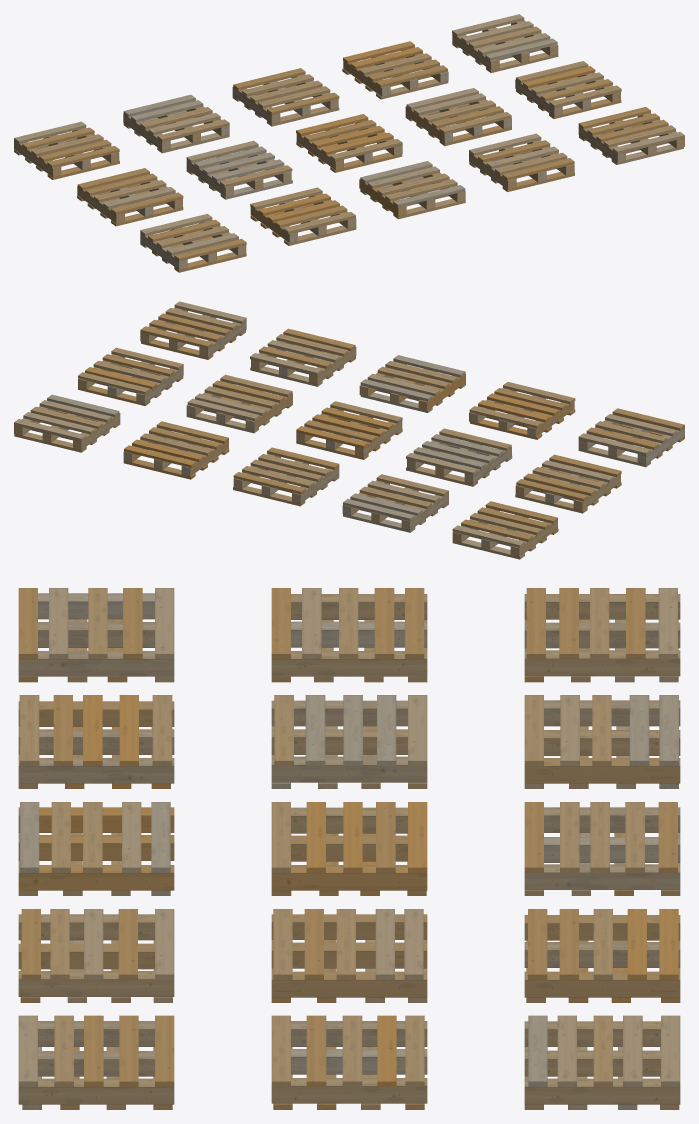
Rendered from Pallets.fbx.
The picture shows the model from 3 angles, top to bottom: view 1: azimuth 30°, elevation 25°; view 2: azimuth 150°, elevation 25°; view 3: azimuth 270°, elevation 25°; orthographic projection. The views are drawn at different scales.
Visible parts, largest first — view 1: Pallet_Asm_1, Pallet_Asm_7, Pallet_Asm_15, Pallet_Asm_8, Pallet_Asm_12, Pallet_Asm_6, Pallet_Asm_5, Pallet_Asm_14, Pallet_Asm_3, Pallet_Asm_2, Pallet_Asm_11, Pallet_Asm_13 (+3 smaller); view 2: Pallet_Asm_6, Pallet_Asm_1, Pallet_Asm_9, Pallet_Asm_13, Pallet_Asm_12, Pallet_Asm_8, Pallet_Asm_3, Pallet_Asm_5, Pallet_Asm_2, Pallet_Asm_10, Pallet_Asm_11, Pallet_Asm_7 (+3 smaller); view 3: Pallet_Asm_1, Pallet_Asm_15, Pallet_Asm_5, Pallet_Asm_11, Pallet_Asm_6, Pallet_Asm_8, Pallet_Asm_10, Pallet_Asm_9, Pallet_Asm_7, Pallet_Asm_12, Pallet_Asm_14, Pallet_Asm_4 (+3 smaller).
Boxes of the visible parts, x1,y1,x2,y2 form: Pallet_Asm_1: (140, 214, 246, 272); Pallet_Asm_7: (186, 140, 292, 199); Pallet_Asm_15: (452, 14, 558, 72); Pallet_Asm_8: (296, 114, 402, 172); Pallet_Asm_12: (123, 94, 229, 153); Pallet_Asm_6: (77, 168, 183, 226); Pallet_Asm_5: (578, 107, 684, 164); Pallet_Asm_14: (342, 41, 448, 99); Pallet_Asm_3: (359, 161, 465, 219); Pallet_Asm_2: (250, 187, 356, 245); Pallet_Asm_11: (14, 121, 119, 179); Pallet_Asm_13: (232, 68, 339, 126); Pallet_Asm_6: (515, 454, 621, 513); Pallet_Asm_1: (578, 408, 684, 467); Pallet_Asm_9: (186, 374, 292, 433); Pallet_Asm_13: (233, 447, 339, 506); Pallet_Asm_12: (342, 474, 448, 532); Pallet_Asm_8: (296, 401, 402, 459); Pallet_Asm_3: (359, 355, 465, 412); Pallet_Asm_5: (140, 301, 246, 359); Pallet_Asm_2: (469, 382, 575, 439); Pallet_Asm_10: (78, 347, 183, 405); Pallet_Asm_11: (452, 501, 558, 559); Pallet_Asm_7: (406, 428, 512, 486); Pallet_Asm_1: (18, 588, 174, 682); Pallet_Asm_15: (524, 1015, 680, 1109); Pallet_Asm_5: (18, 1015, 174, 1109); Pallet_Asm_11: (524, 588, 680, 682); Pallet_Asm_6: (271, 588, 427, 682); Pallet_Asm_8: (271, 802, 427, 895); Pallet_Asm_10: (271, 1015, 427, 1109); Pallet_Asm_9: (271, 909, 427, 1002); Pallet_Asm_7: (271, 695, 427, 788); Pallet_Asm_12: (524, 695, 680, 788); Pallet_Asm_14: (524, 909, 680, 1002); Pallet_Asm_4: (18, 909, 174, 1002).
Bounding box in the file's own units: 3000 × 80 × 1700.
